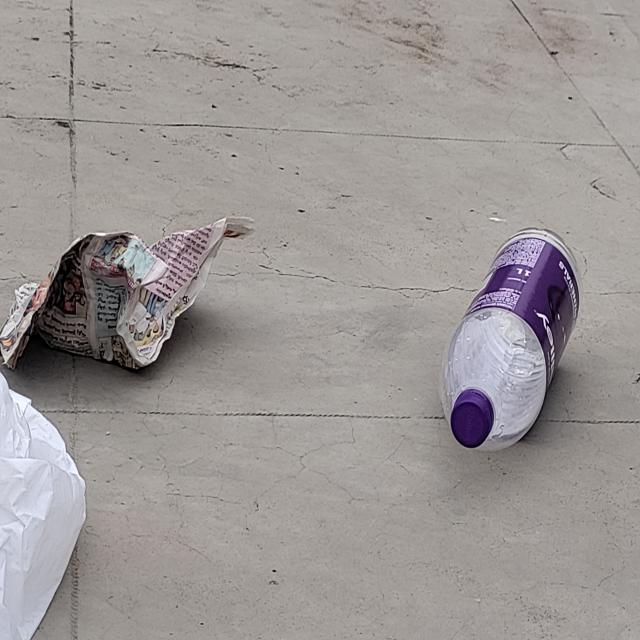dry: (0, 215, 256, 372), (438, 224, 582, 451), (0, 375, 86, 629)
